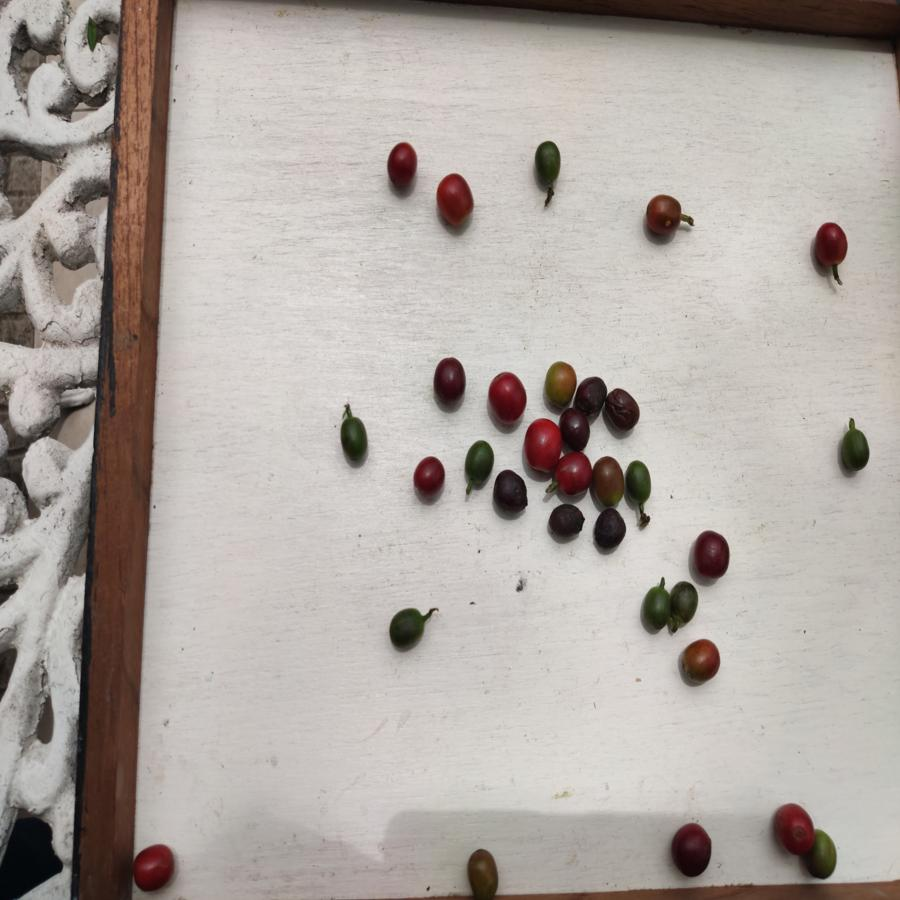Inmaduro: (387, 607, 426, 650), (837, 429, 873, 474), (533, 142, 566, 188), (666, 581, 700, 625), (338, 417, 370, 462), (641, 586, 671, 630), (464, 440, 493, 485), (625, 460, 654, 504)
Maduro: (434, 172, 477, 228), (485, 371, 528, 427), (773, 803, 816, 855), (522, 418, 558, 473), (131, 845, 175, 890), (556, 452, 592, 498), (815, 222, 848, 272), (385, 142, 418, 190), (413, 457, 448, 498)
Pinton: (804, 828, 837, 880), (682, 638, 720, 683), (466, 850, 500, 900), (544, 359, 577, 409), (592, 456, 623, 508), (643, 195, 683, 233)
Sobremaduro: (668, 823, 715, 878), (430, 357, 467, 408), (606, 385, 641, 436), (694, 531, 731, 578), (494, 470, 528, 516), (545, 501, 585, 538), (593, 508, 627, 550), (576, 376, 608, 415), (562, 409, 590, 450)
